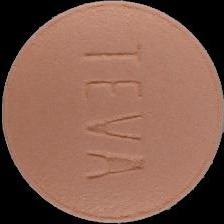0093-2748: (0, 0, 224, 224)
